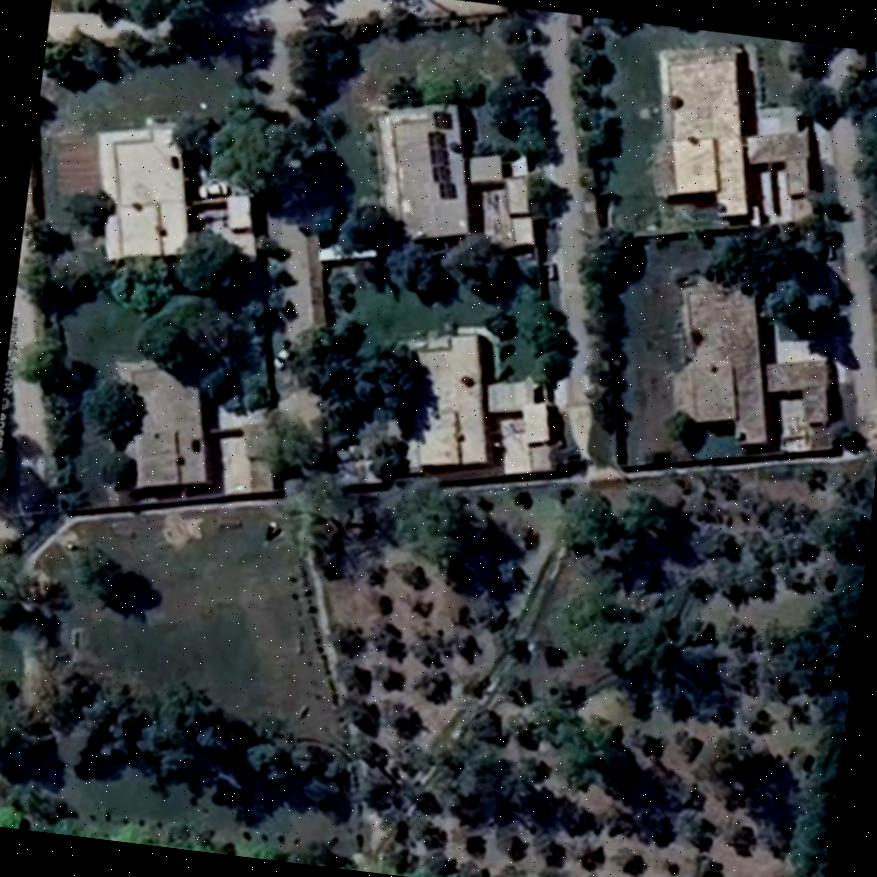Solarpanel: (430, 131, 449, 180), (435, 109, 447, 128), (441, 182, 453, 196)
